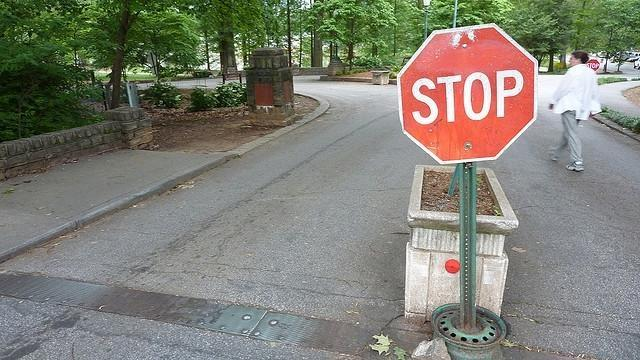car: (610, 53, 630, 63), (634, 58, 640, 70), (630, 56, 640, 62)
